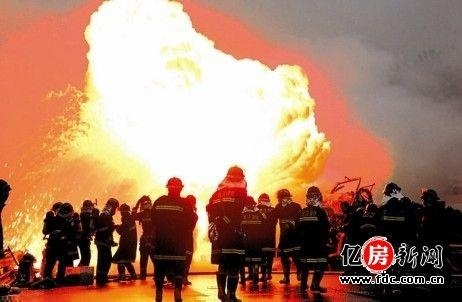fire: (70, 0, 323, 195)
